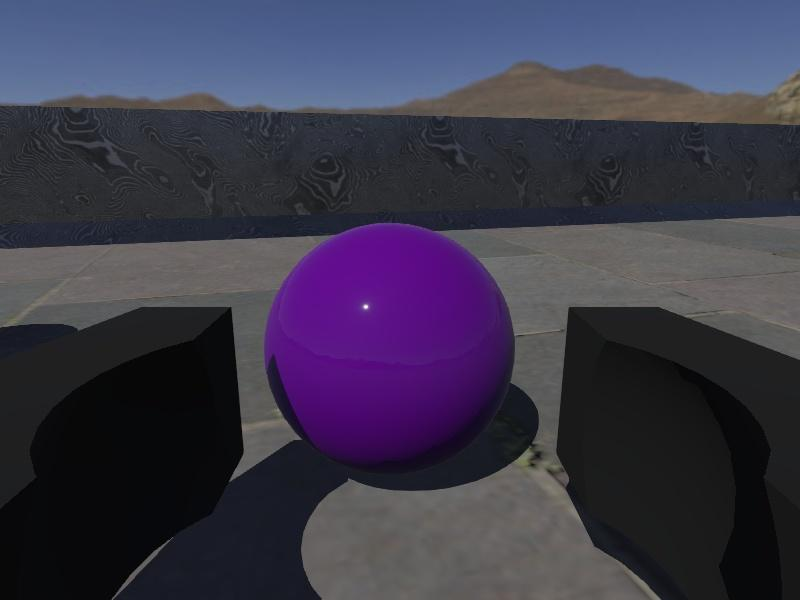violet ball: (262, 221, 515, 478)
